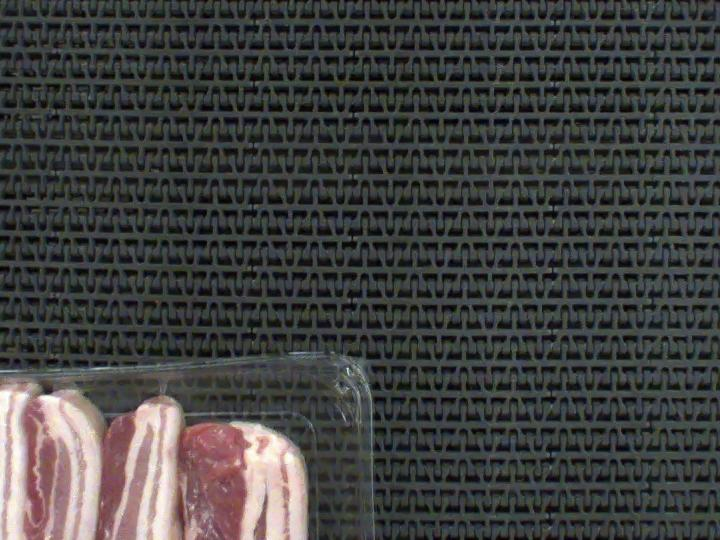packaging-error: (0, 336, 280, 445)
